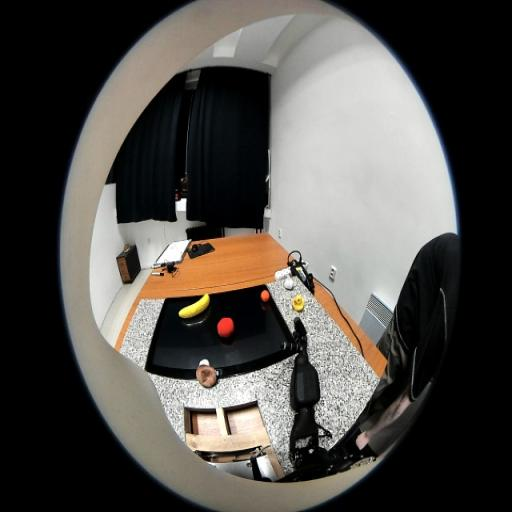Banana: (178, 293, 210, 318)
Duck: (293, 294, 304, 311)
Mushroom: (196, 358, 216, 387)
Onion: (285, 275, 293, 289)
Orange: (261, 290, 270, 302)
RightHand: (298, 336, 308, 354)
Tomato: (217, 316, 234, 338)
